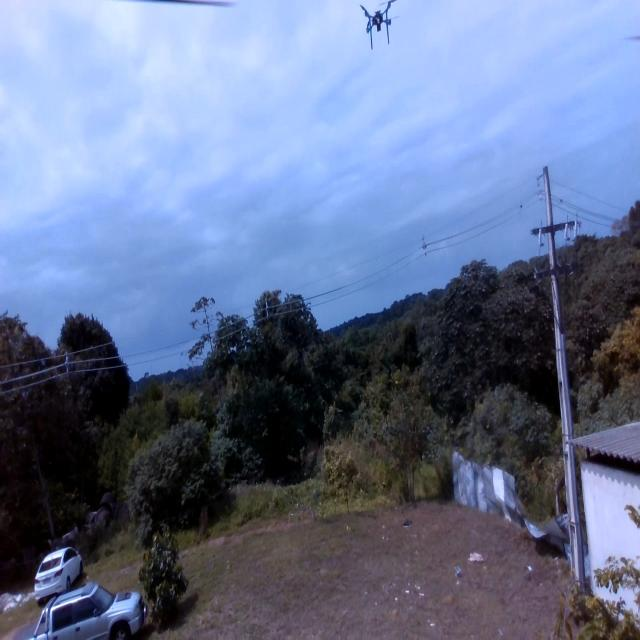-uav-: (351, 3, 409, 58)
